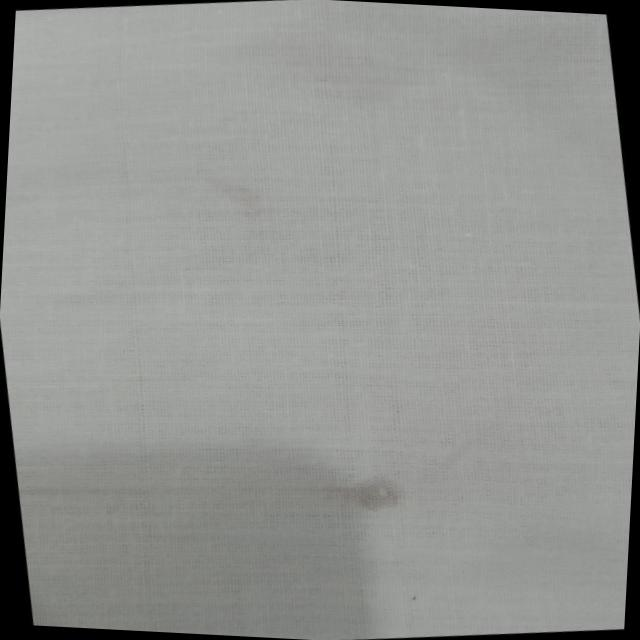stain: (254, 458, 441, 540), (165, 156, 292, 250)
